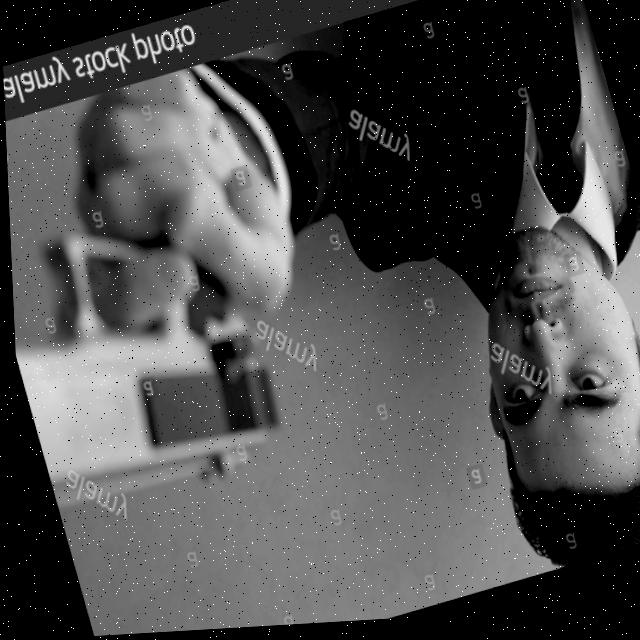pistol: (7, 188, 286, 522)
